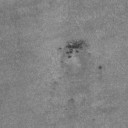iron sheet ash: (64, 36, 90, 59), (98, 66, 102, 69)
